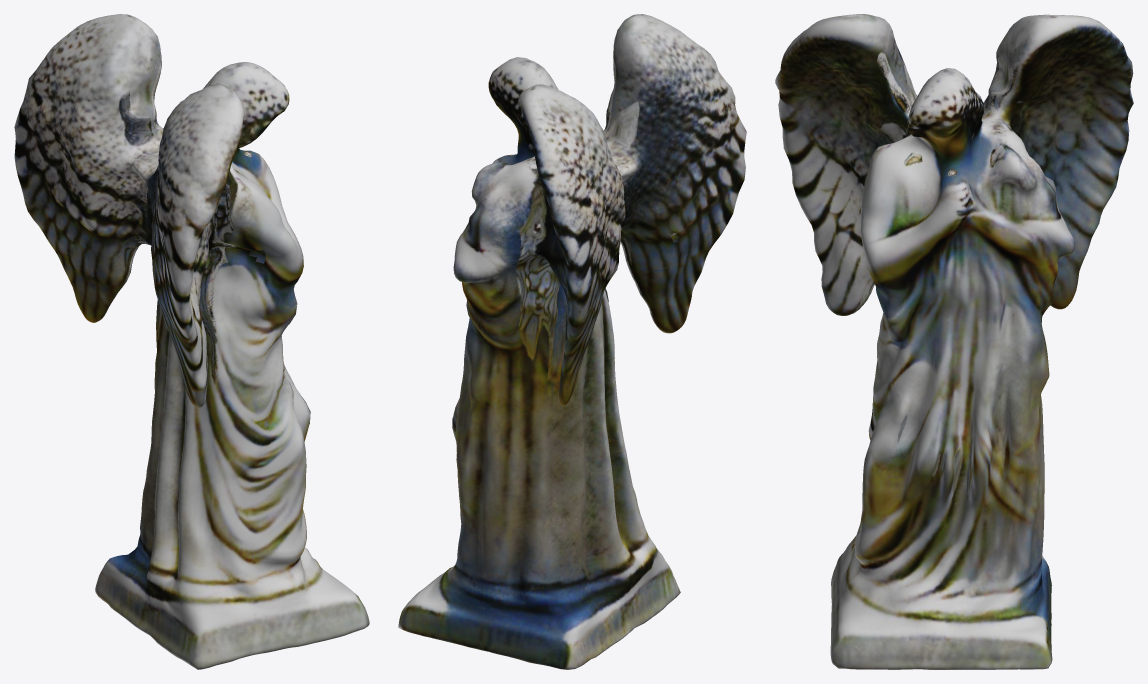
Rendered from Angel.fbx.
The picture shows the model from 3 angles, left to right: view 1: azimuth 30°, elevation 25°; view 2: azimuth 150°, elevation 25°; view 3: azimuth 270°, elevation 25°; orthographic projection. The views are drawn at different scales.
Parts seen in each view (by area): view 1: mesh; view 2: mesh; view 3: mesh.
Part boxes in pixels (x1,y1,x2,y2): mesh: (14, 14, 369, 669); mesh: (398, 14, 746, 669); mesh: (775, 14, 1133, 669).
Size of the model in its own units: 40.13 by 99.8 by 55.18.
